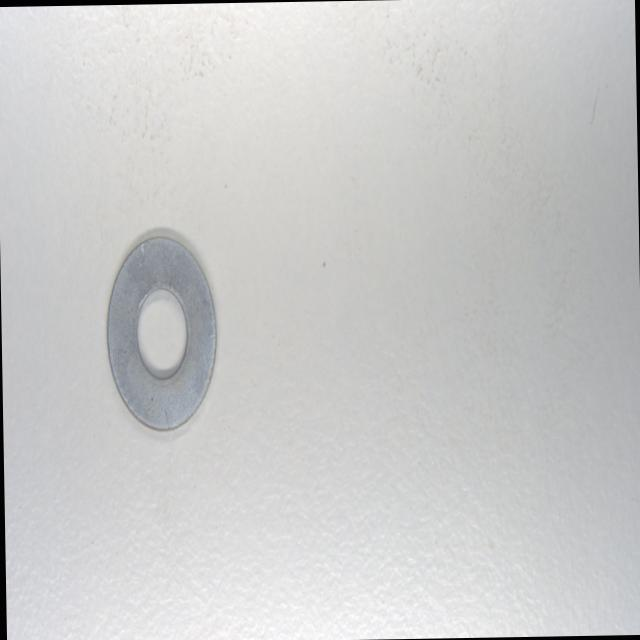washer: (102, 228, 220, 436)
